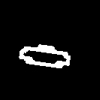chain: (19, 45, 69, 67)
